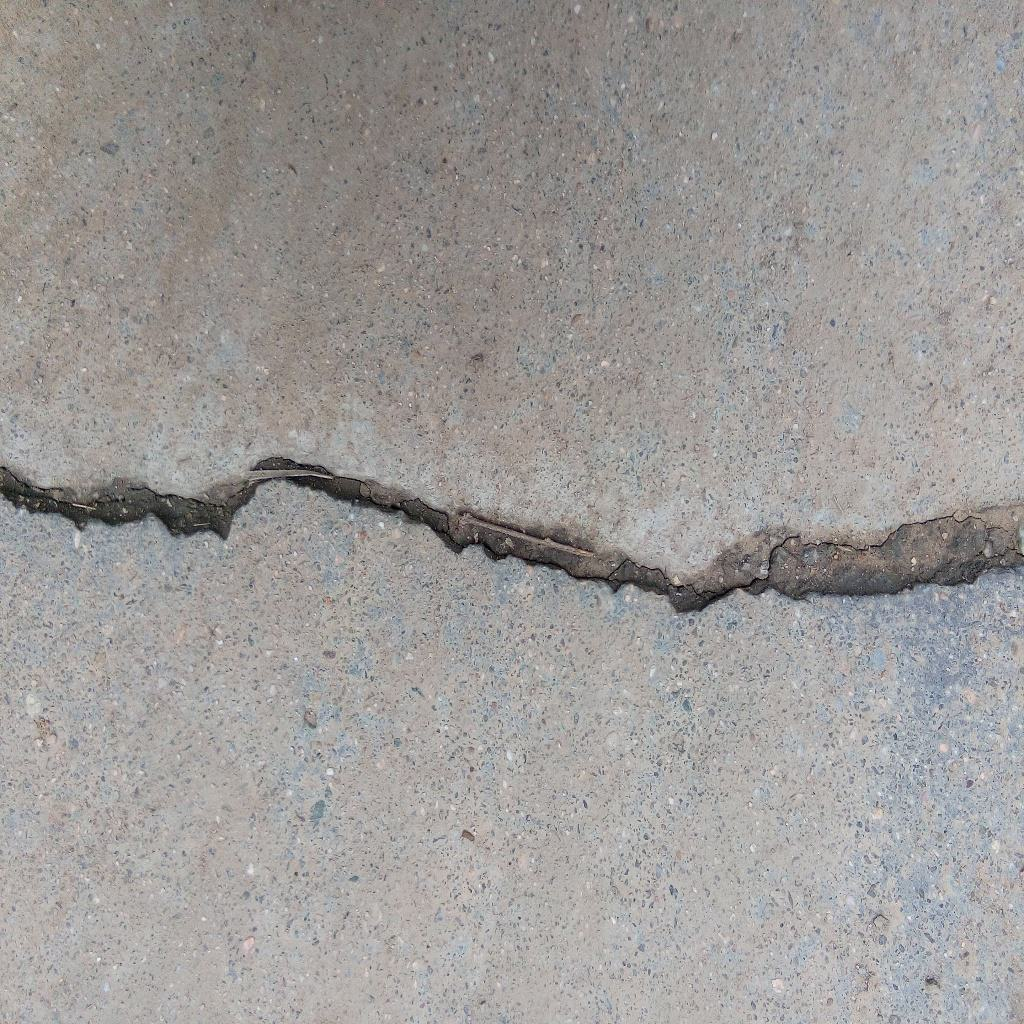Crack: (1, 454, 1024, 615)
